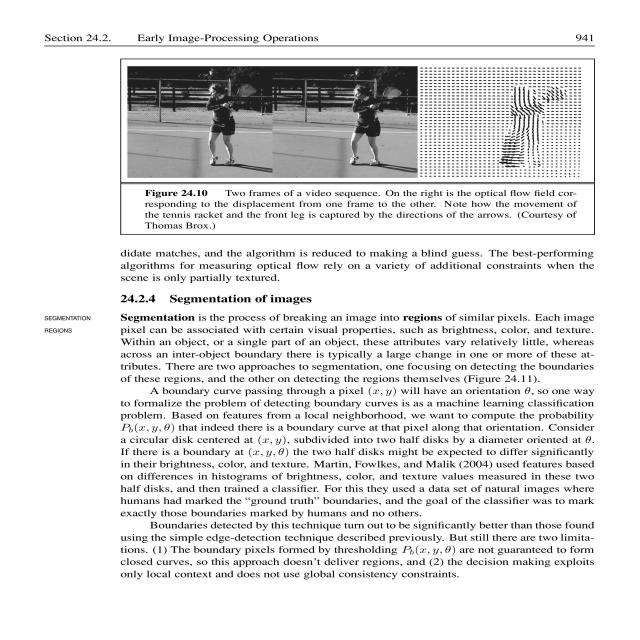diagram: (110, 55, 623, 239)
